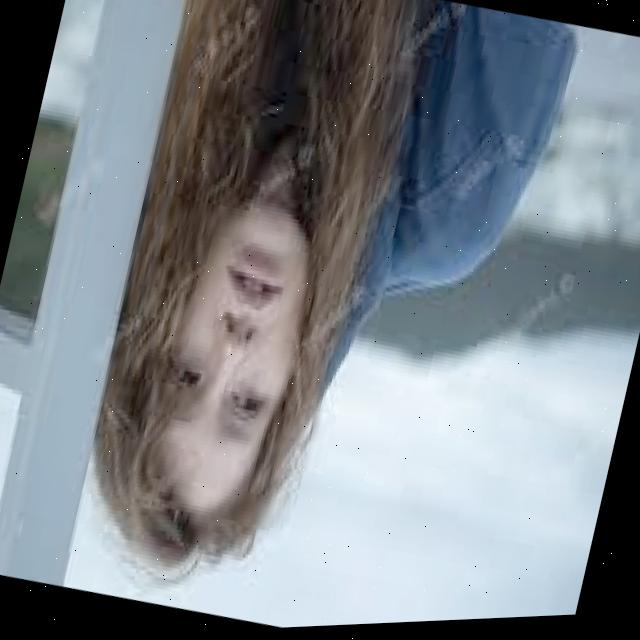natural: (109, 141, 353, 487)
